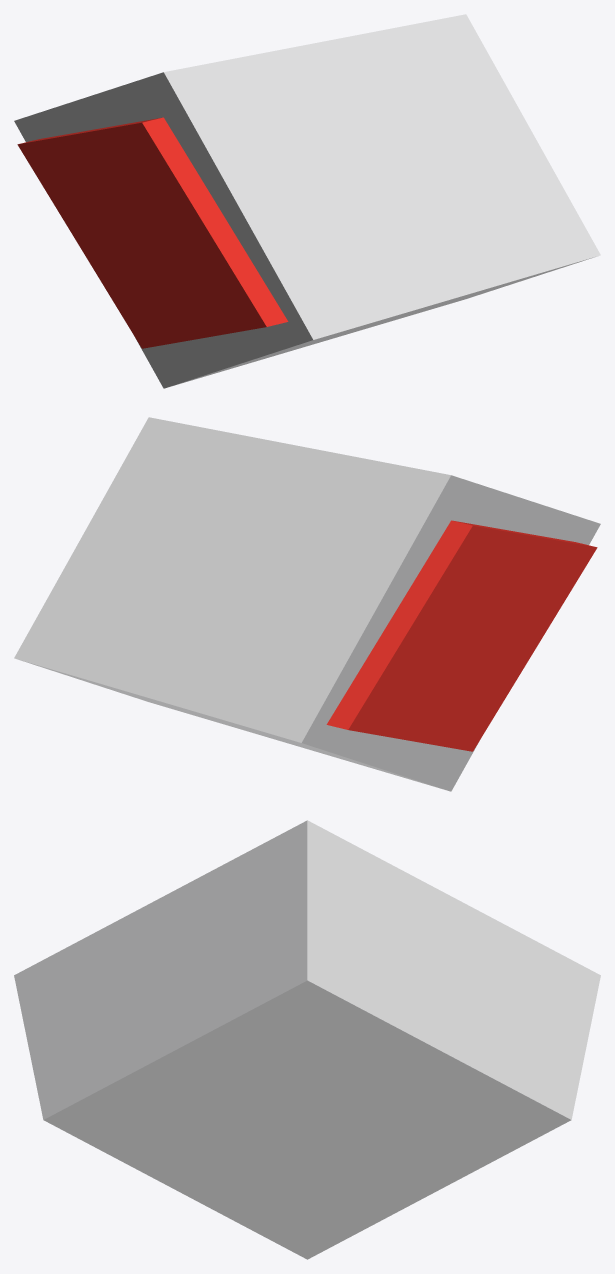
The model's file is lucas_lod2.glb.
3 views of the same model, one above another, from view 1: azimuth 30°, elevation 25°; view 2: azimuth 150°, elevation 25°; view 3: azimuth 270°, elevation 25° (orthographic). The views are drawn at different scales.
Visible parts, largest first — view 1: lucas_lod2; view 2: lucas_lod2; view 3: lucas_lod2.
Part boxes in pixels (box(x1,y1,x2,y2)): lucas_lod2: box(14, 14, 600, 388); lucas_lod2: box(14, 417, 600, 791); lucas_lod2: box(14, 820, 600, 1259).
Size of the model in its own units: 0.075 by 0.07 by 0.12.
